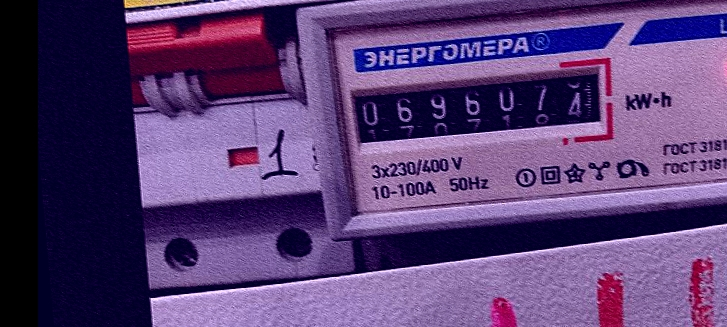0: (358, 96, 379, 126), (493, 83, 515, 111)
4: (562, 89, 583, 118)
6: (461, 86, 481, 115), (392, 94, 412, 122)
7: (528, 80, 550, 111)
9: (426, 91, 446, 120)
screen: (335, 52, 621, 163)
